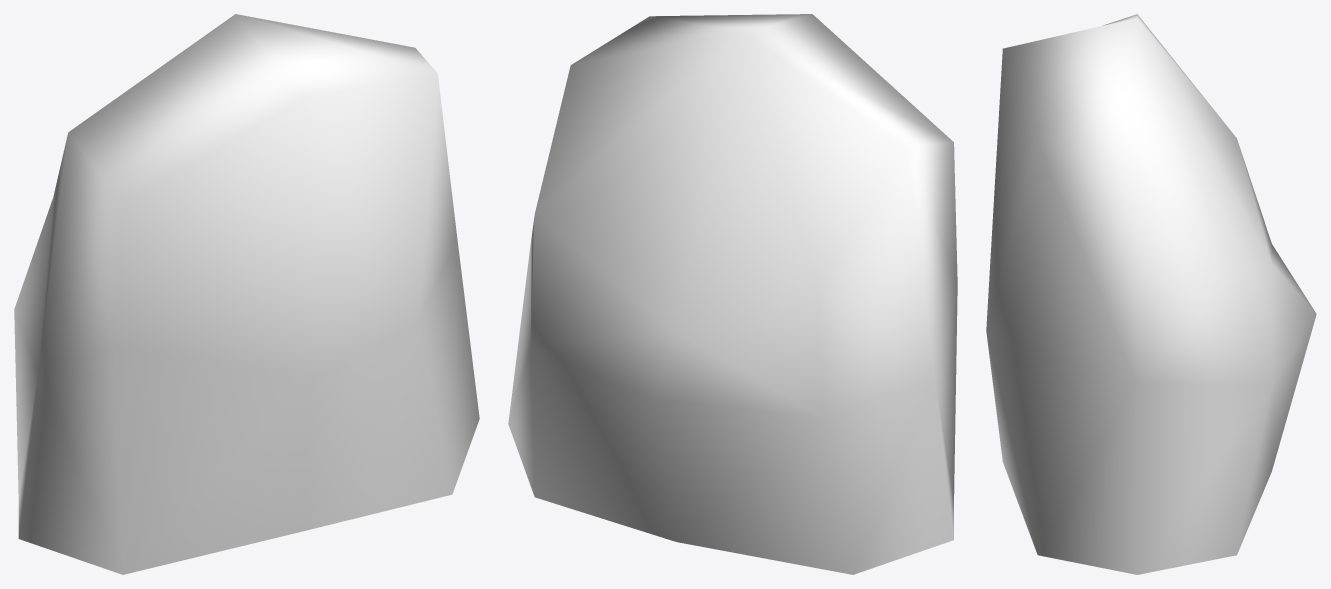
The model's file is Stone-2.fbx.
3 views of the same model, side by side, from view 1: azimuth 30°, elevation 25°; view 2: azimuth 150°, elevation 25°; view 3: azimuth 270°, elevation 25° (orthographic). The views are drawn at different scales.
Parts seen in each view (by area): view 1: pCube3; view 2: pCube3; view 3: pCube3.
Boxes of the visible parts, x1,y1,x2,y2 form: pCube3: (14,14,479,574); pCube3: (508,14,957,574); pCube3: (986,14,1316,574).
Bounding box in the file's own units: 0.7775 × 0.7778 × 0.5057.
